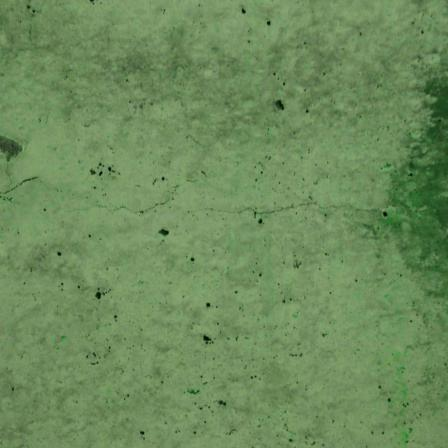crack: (63, 121, 225, 259), (0, 57, 92, 201), (184, 198, 387, 217)
